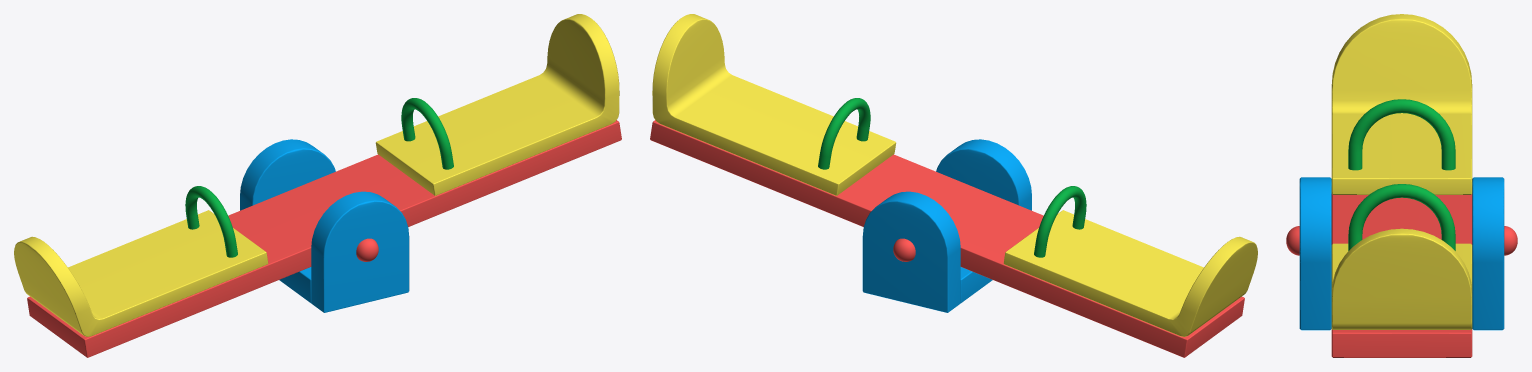
The model's file is City_12_Childrens_Seesaw_1.glb.
3 views of the same model, side by side, from view 1: azimuth 30°, elevation 25°; view 2: azimuth 150°, elevation 25°; view 3: azimuth 270°, elevation 25° (orthographic). The views are drawn at different scales.
Parts seen in each view (by area): view 1: City_12_Childrens_Seesaw_1; view 2: City_12_Childrens_Seesaw_1; view 3: City_12_Childrens_Seesaw_1.
Part boxes in pixels (x1=…): City_12_Childrens_Seesaw_1: x1=14, y1=14, x2=621, y2=357; City_12_Childrens_Seesaw_1: x1=650, y1=14, x2=1257, y2=357; City_12_Childrens_Seesaw_1: x1=1286, y1=14, x2=1517, y2=357.
Size of the model in its own units: 2.58 by 0.8314 by 0.7609.
1 material, 1 textured.
